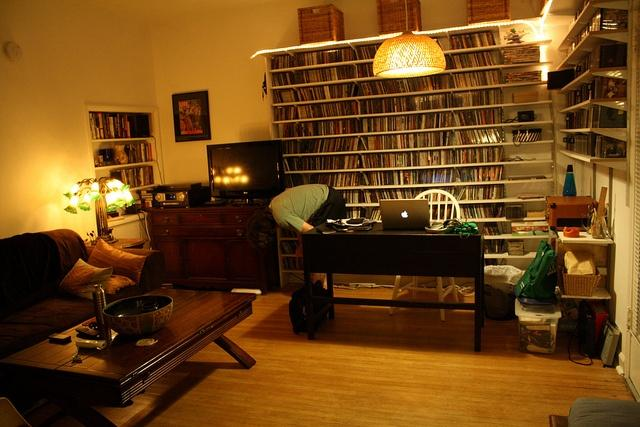AIO PC-Monitor-TV: (205, 137, 284, 200)
Meja: (0, 288, 259, 426)
